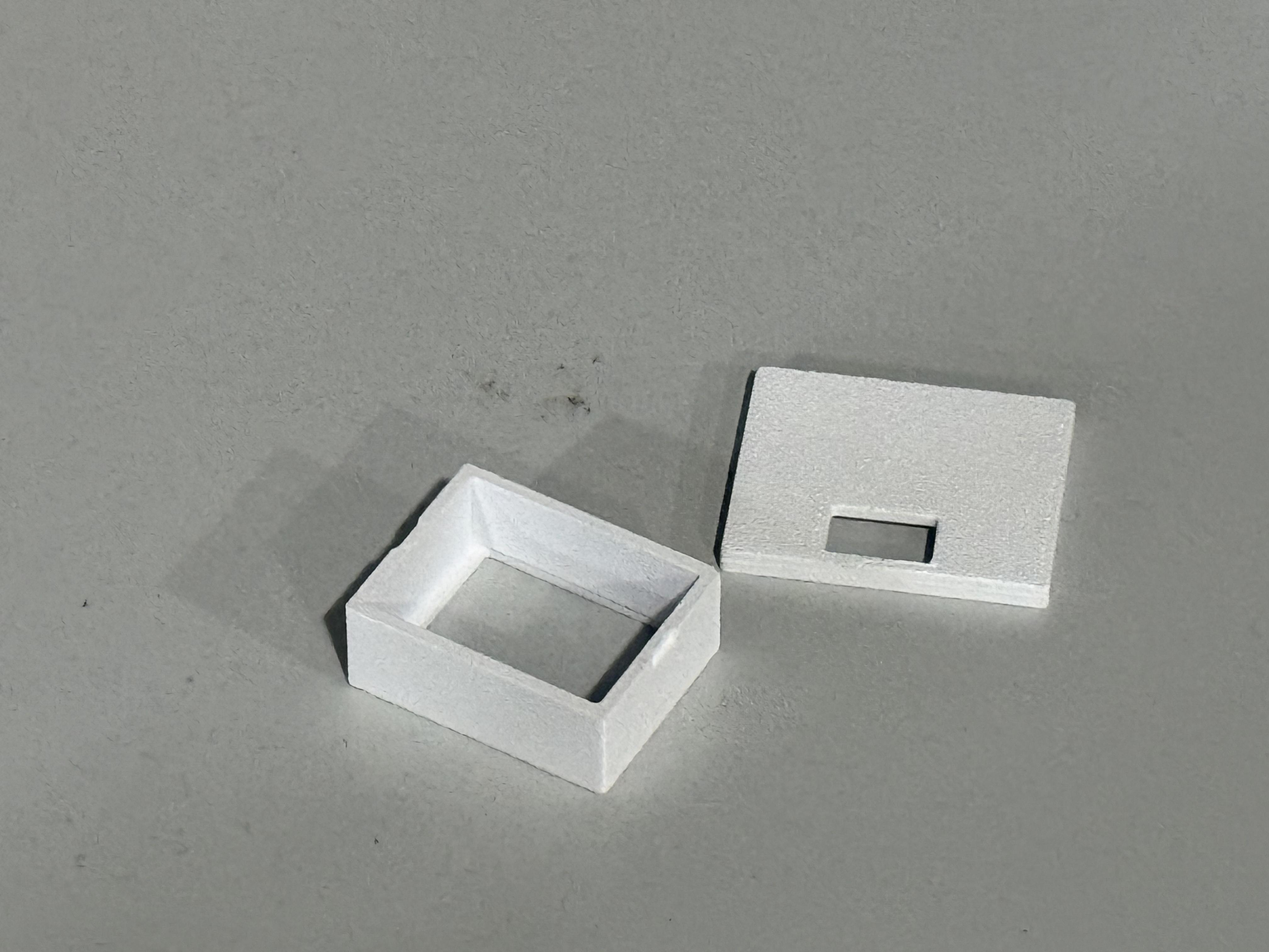enclosure: (344, 366, 1077, 795)
